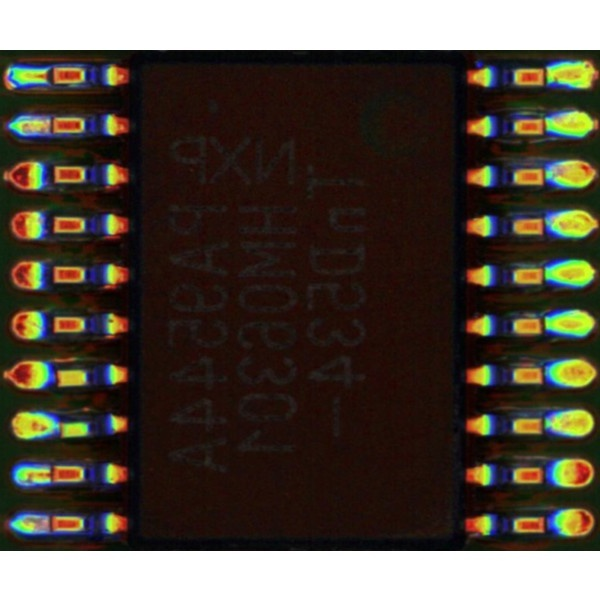Bad_podu: (33, 70, 61, 82), (35, 519, 60, 531), (38, 469, 64, 480), (35, 122, 63, 132)
